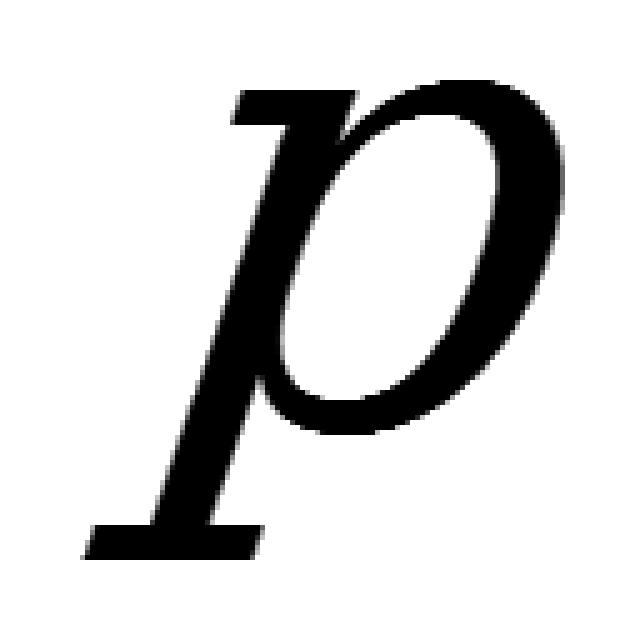P: (80, 80, 565, 560)
